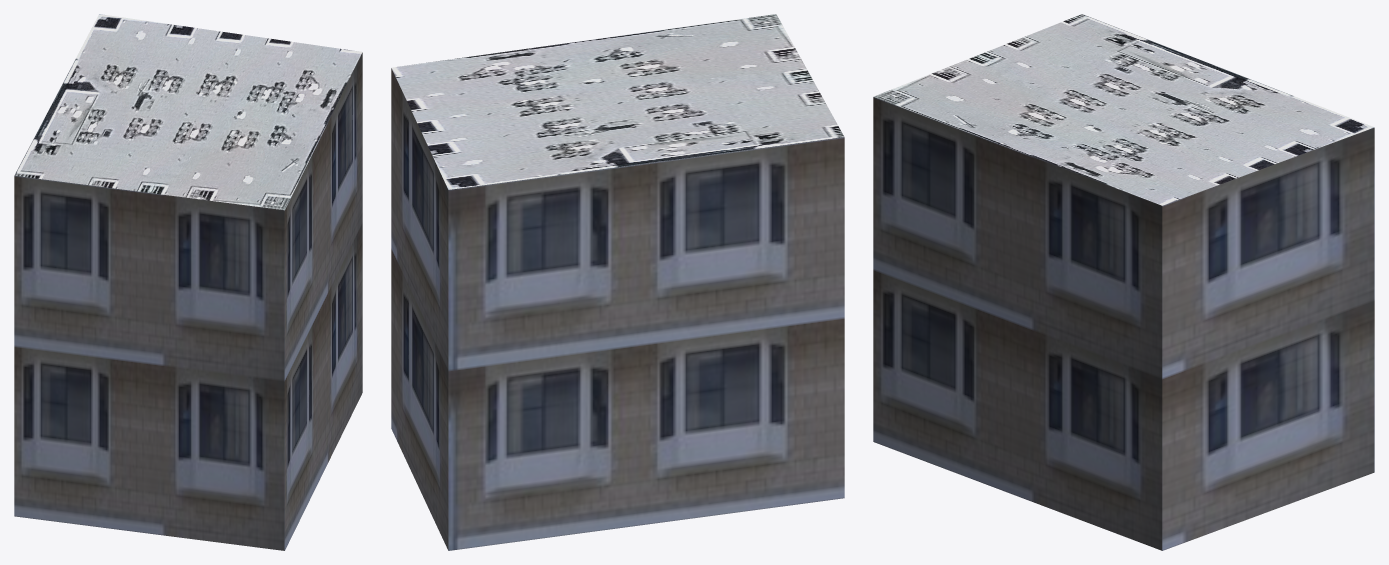
Rendered from ResTex__1264.fbx.
3 views of the same model, side by side, from view 1: azimuth 30°, elevation 25°; view 2: azimuth 150°, elevation 25°; view 3: azimuth 270°, elevation 25° (orthographic). The views are drawn at different scales.
Parts seen in each view (by area): view 1: CityEngineMaterial_3_m, CityEngineMaterial_4_m; view 2: CityEngineMaterial_3_m, CityEngineMaterial_4_m; view 3: CityEngineMaterial_3_m, CityEngineMaterial_4_m.
Boxes of the visible parts, bbox=[...] form: CityEngineMaterial_3_m: bbox=[14, 52, 362, 550]; CityEngineMaterial_4_m: bbox=[14, 14, 362, 210]; CityEngineMaterial_3_m: bbox=[391, 68, 844, 550]; CityEngineMaterial_4_m: bbox=[391, 14, 844, 189]; CityEngineMaterial_3_m: bbox=[873, 97, 1374, 550]; CityEngineMaterial_4_m: bbox=[873, 14, 1374, 205].
Bounding box in the file's own units: 7.15 × 6 × 7.9.
Materials: 2 (2 with a texture image).
